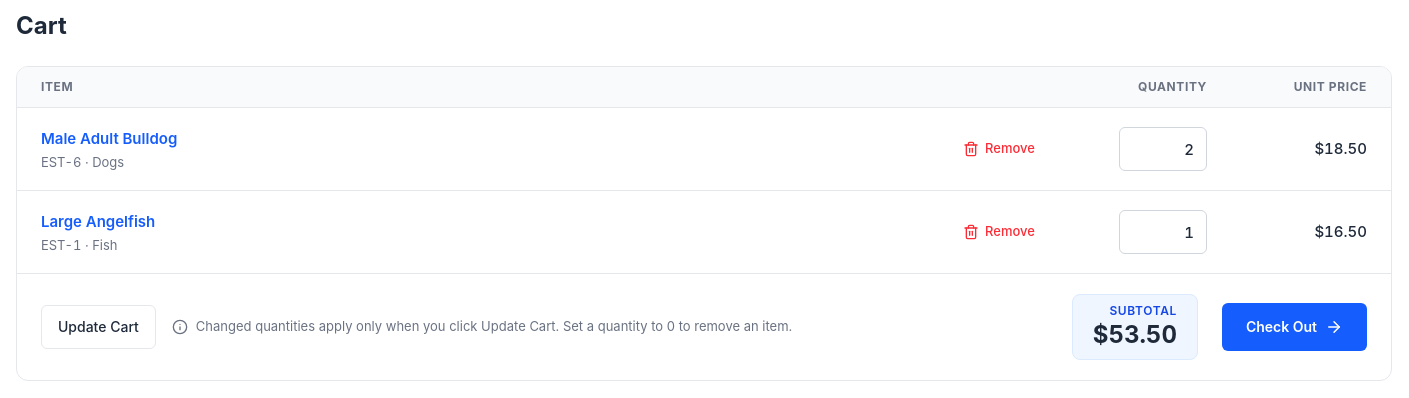
Test: CartPage › Remove sends DELETE for the item and re-renders from the returned cart
The width and height of the screenshot is (1409, 398).
Click the button "Remove" in the row of "Male Adult Bulldog" at (999, 149), box [951,127,1047,171]
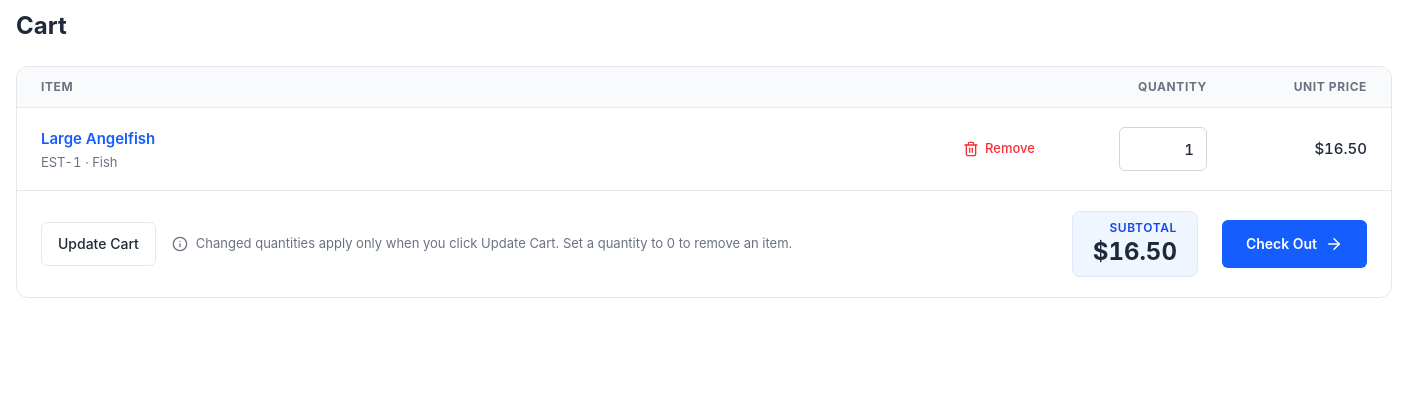
Expected: the link "Large Angelfish" is shown, [41,129,155,148]
Now the link "Male Adult Bulldog" is gone
